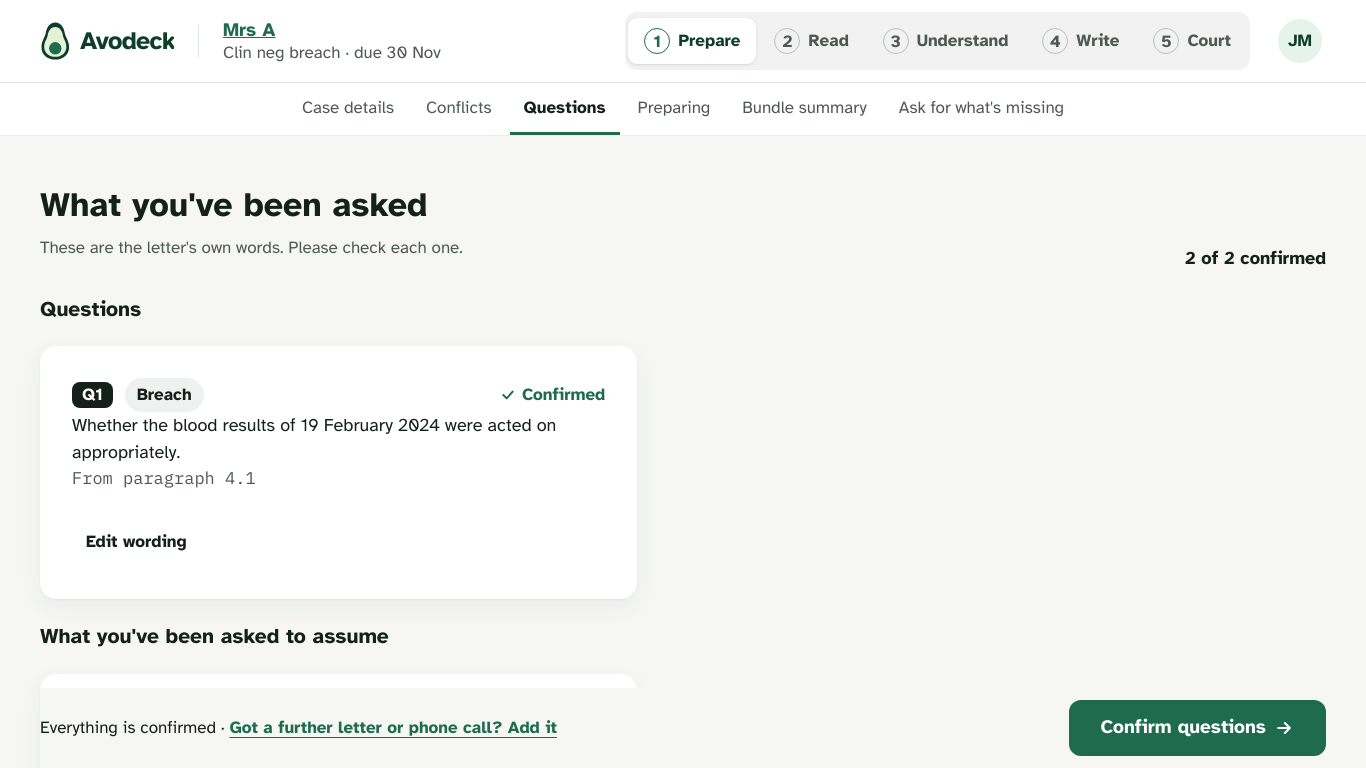
Test case: confirm questions locks the set once every question and assumption is confirmed
Step 1. Click the button "Confirm questions" → click(1197, 728), box [1069,700,1326,756]
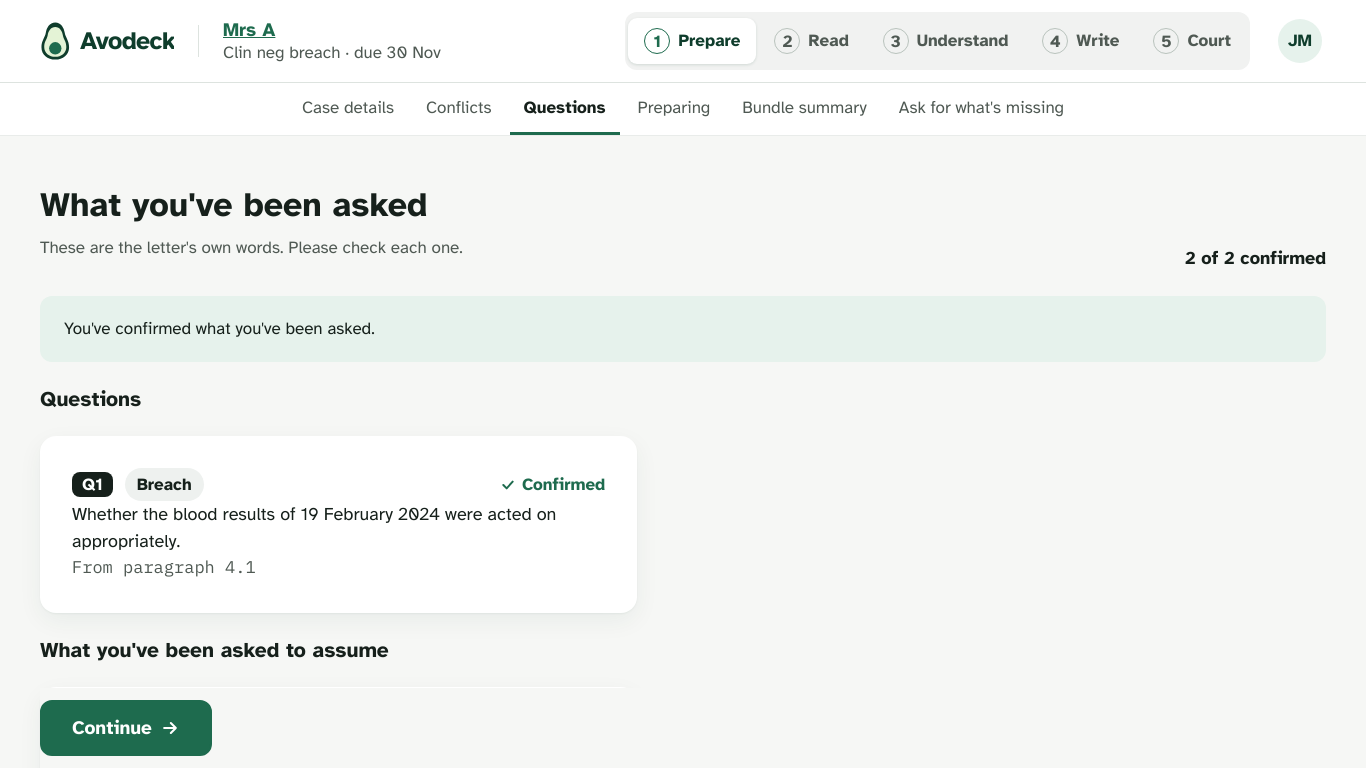
Now the text "You've confirmed what you've been asked." is shown, box [64,318,375,339]
Now the button "Confirm questions" is gone
